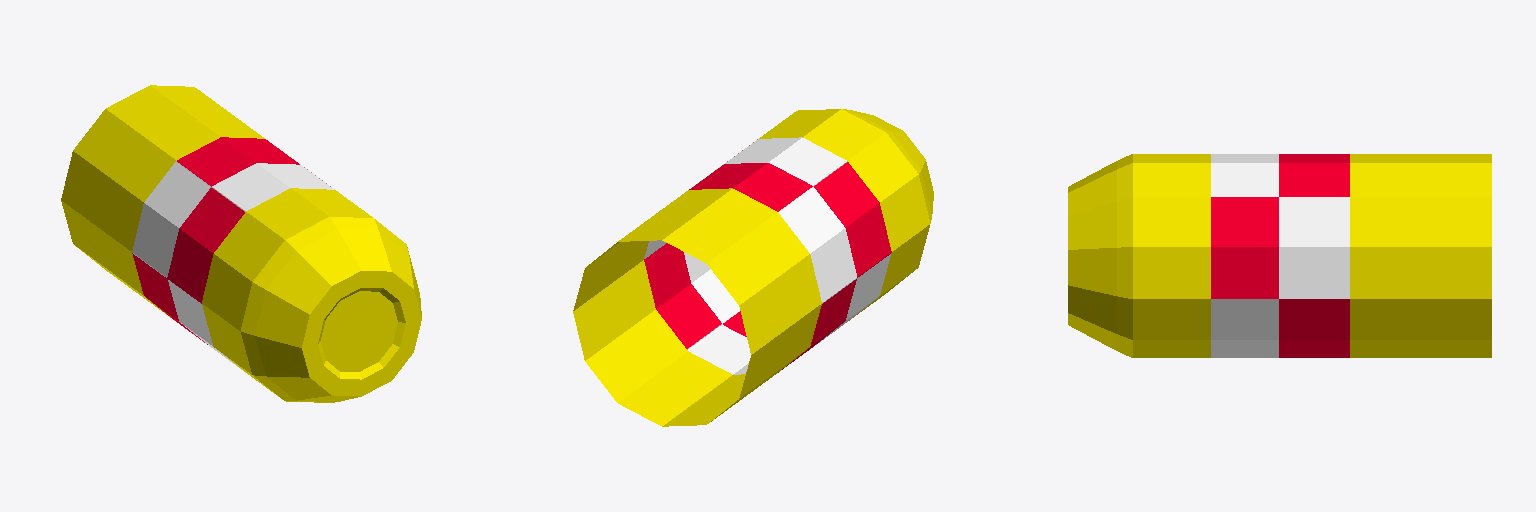
The picture shows the model from 3 angles: view 1: azimuth 30°, elevation 25°; view 2: azimuth 150°, elevation 25°; view 3: azimuth 270°, elevation 25°; orthographic projection.
Bounding box in the file's own units: 71.2 × 71.2 × 147.
Materials: 1 (1 with a texture image).